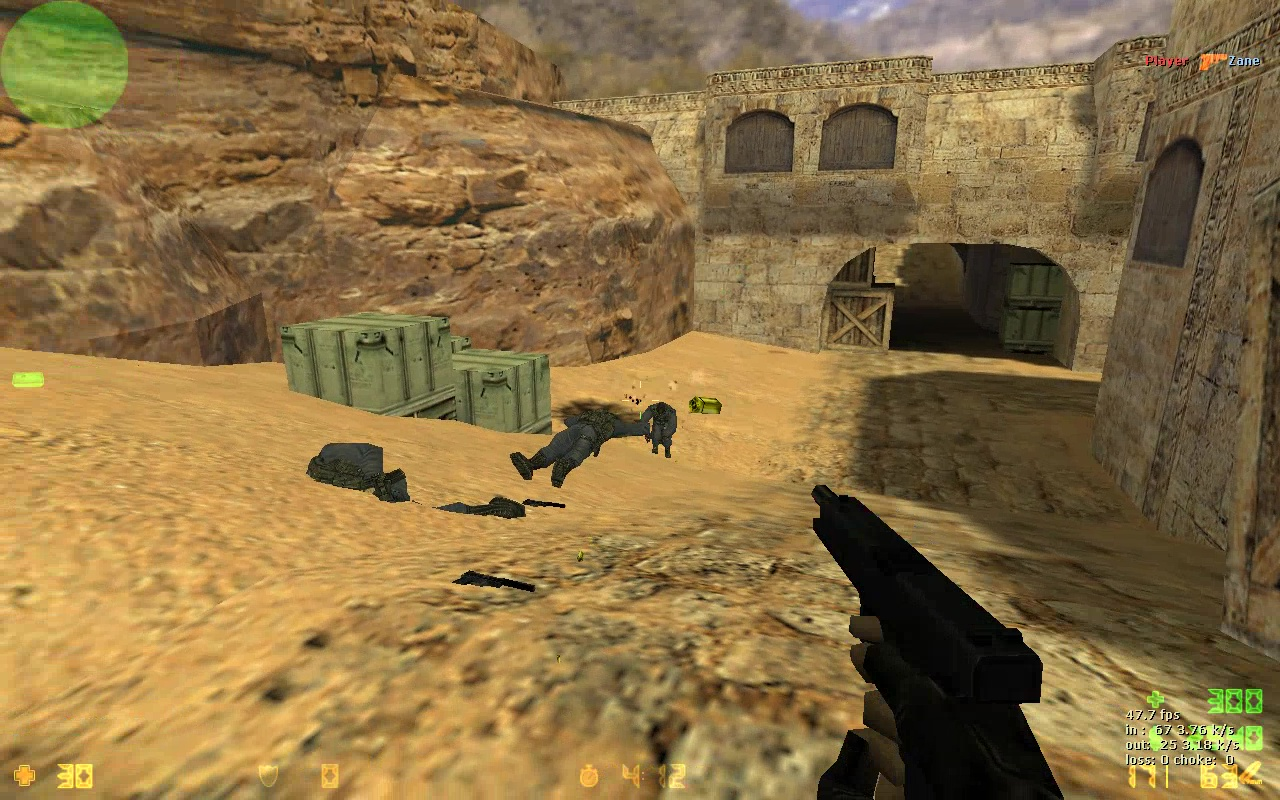ct: (643, 400, 680, 459)
dead: (499, 404, 646, 485)
